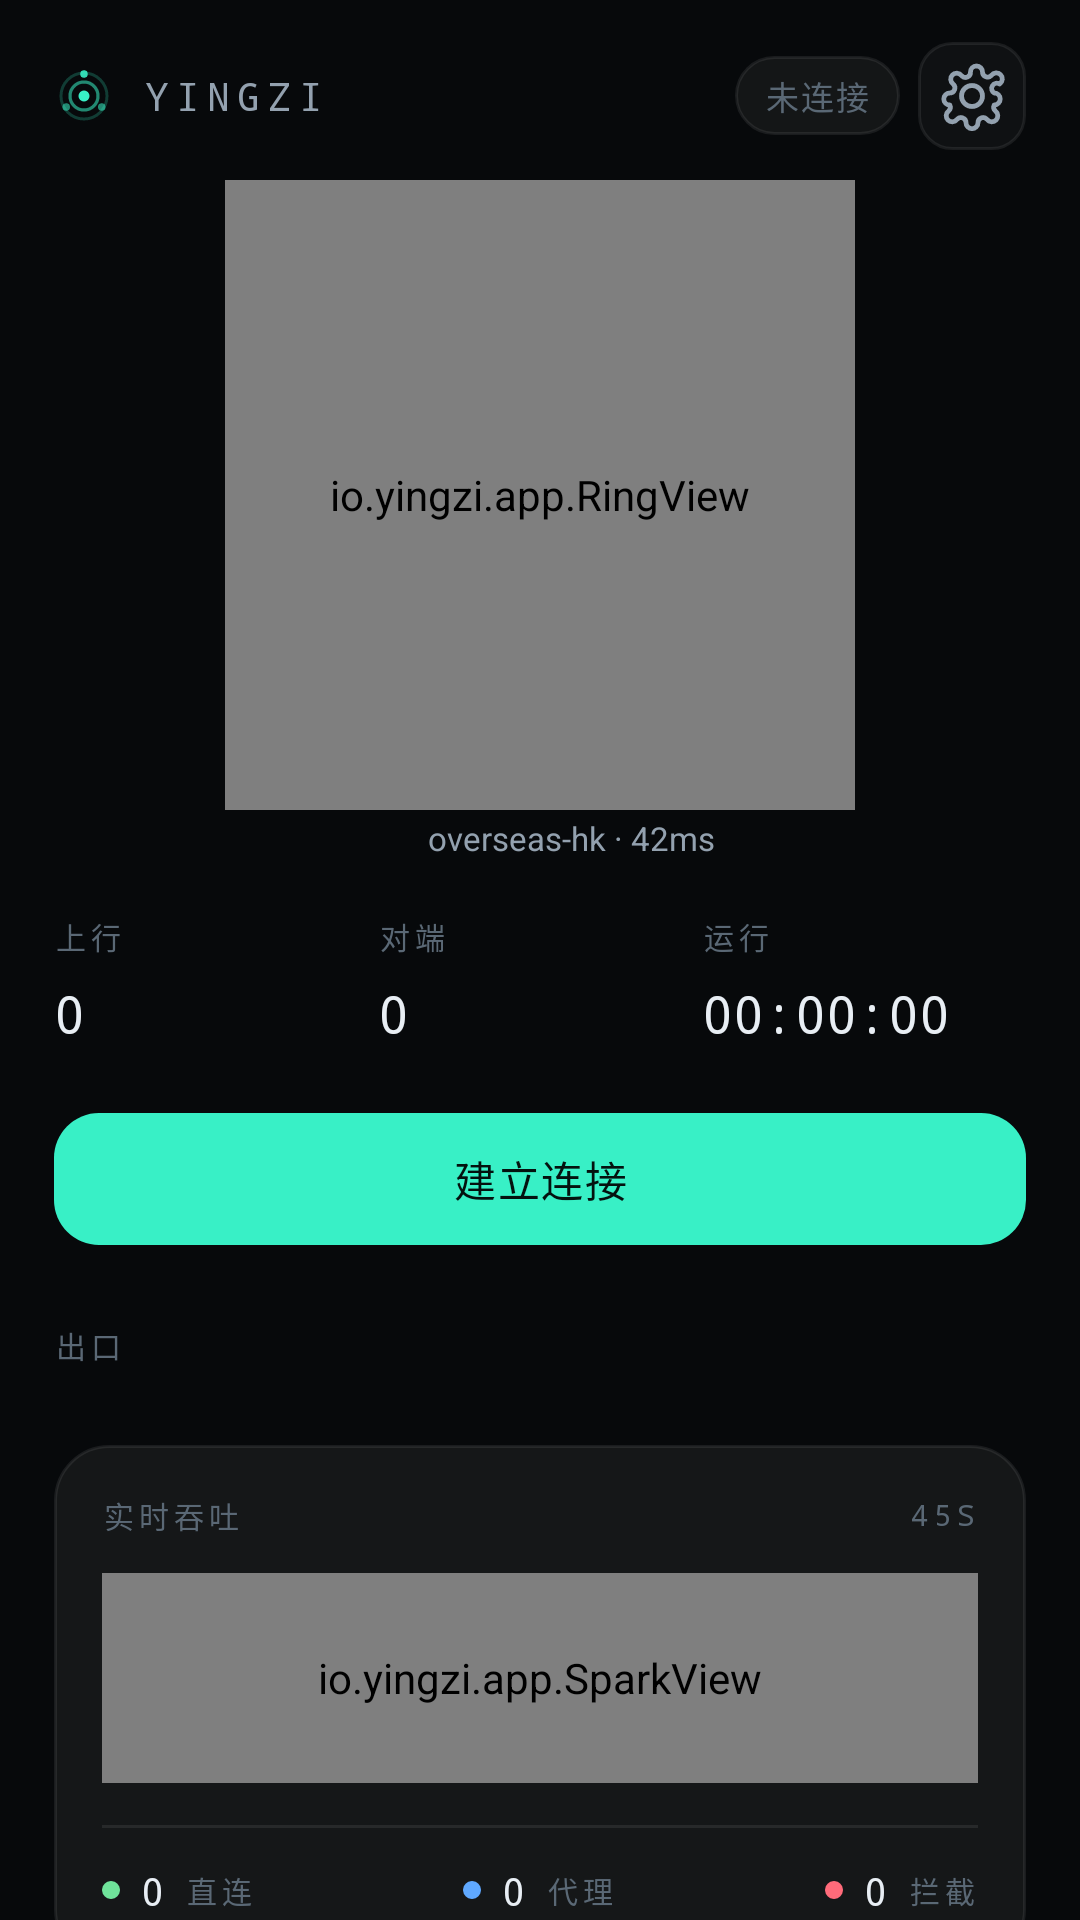

Locate icon controls on the screen. Image size 1080px×1920px, boxes as (x1, y1, x2, y2).
mark: (59, 70, 109, 121)
设置: (920, 44, 1024, 148)
